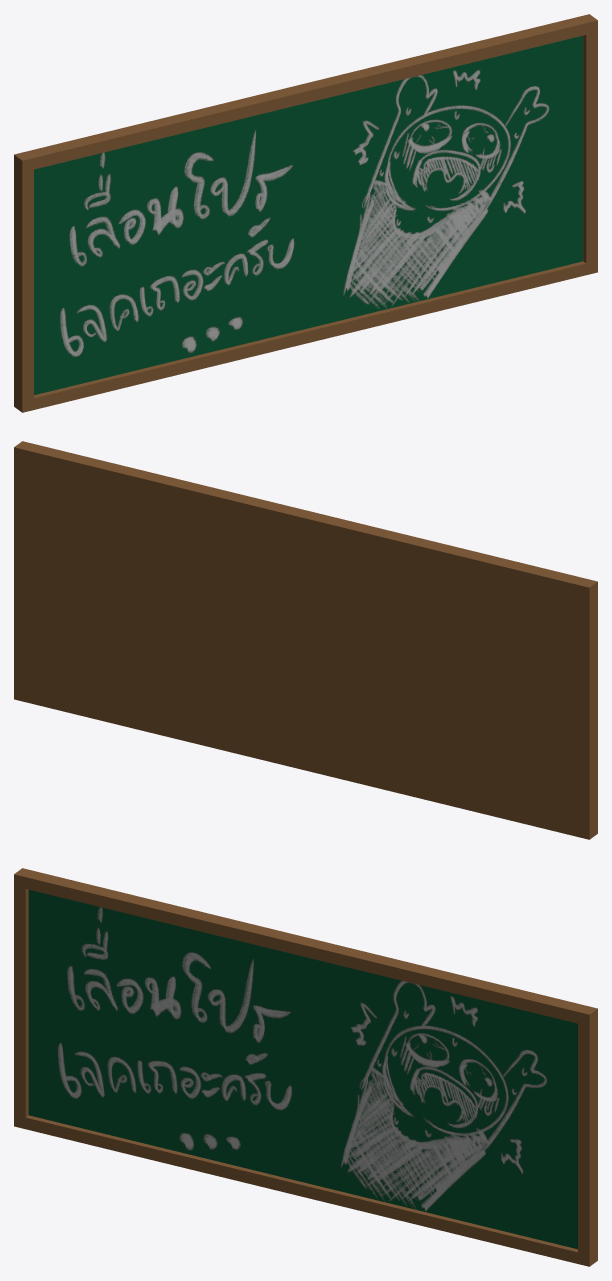
File: Board_Final.fbx
The picture shows the model from 3 angles, top to bottom: view 1: azimuth 30°, elevation 25°; view 2: azimuth 150°, elevation 25°; view 3: azimuth 330°, elevation 25°; orthographic projection.
Parts seen in each view (by area): view 1: Board_Final; view 2: Board_Final; view 3: Board_Final.
Part boxes in pixels (x1,y1,x2,y2): Board_Final: (14,14,597,412); Board_Final: (14,441,597,839); Board_Final: (14,868,597,1266).
Bounding box in the file's own units: 479 × 201 × 12.2.
Materials: 1 (1 with a texture image).
